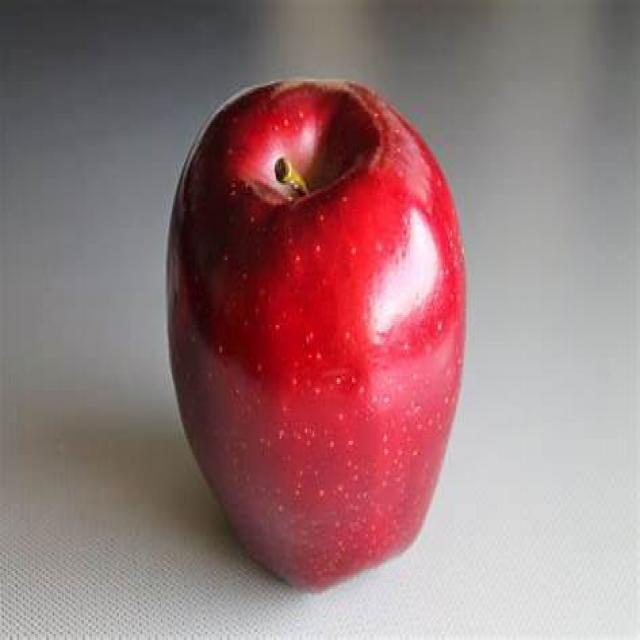Apple: (163, 74, 472, 596)
